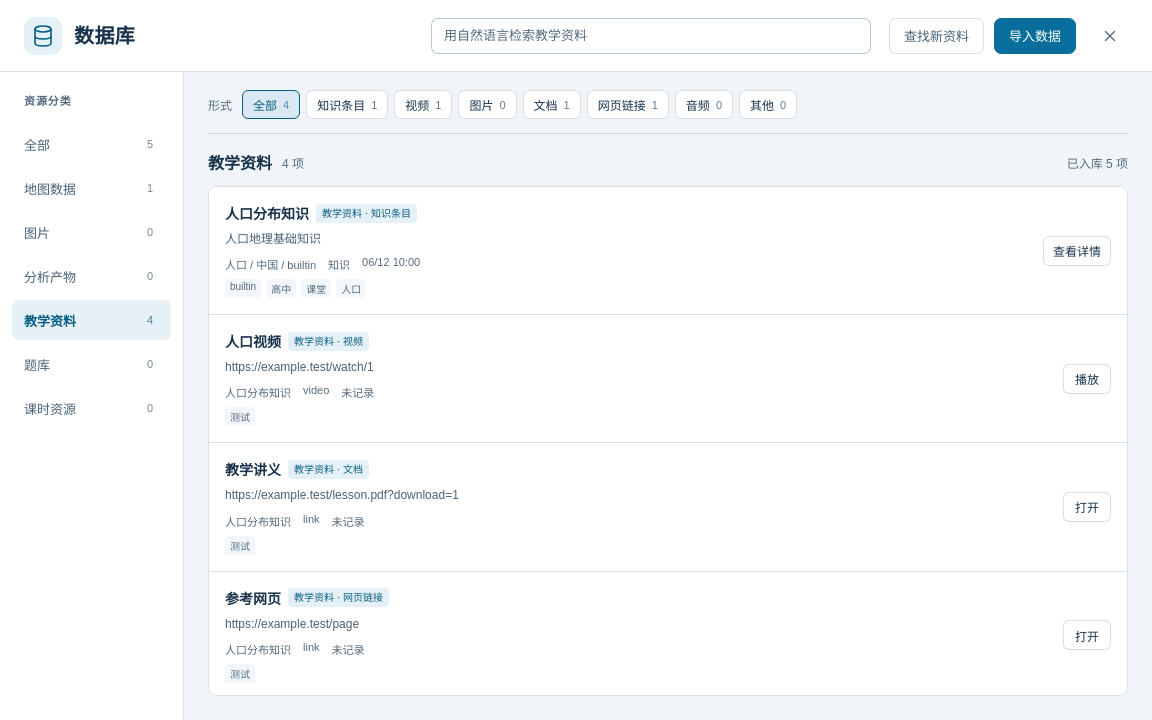
Test: DatabaseViewer › distinguishes video, documents and links within teaching materials
This screenshot has width=1152, height=720.
Click the button "视频 1": (423, 104) [394,90,452,119]
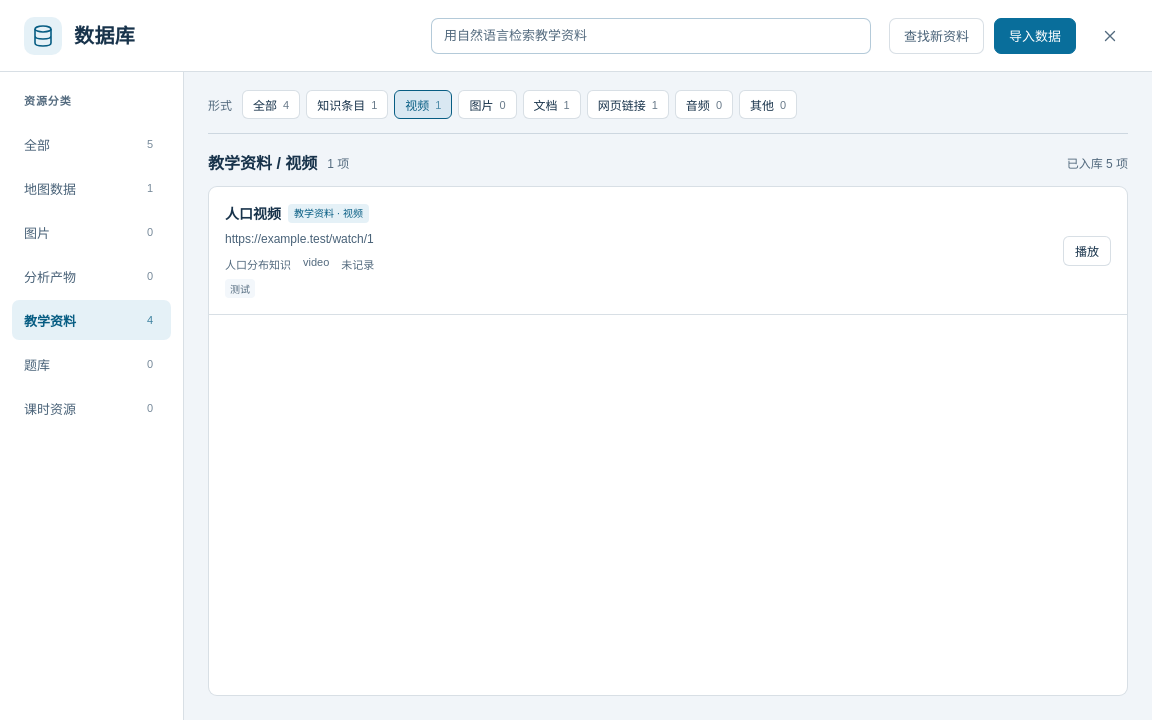
Expected: the text "人口视频" is shown, [225,203,281,223]
Now the text "参考网页" is gone
Click the button "文档 1": (552, 104) [523,90,581,119]
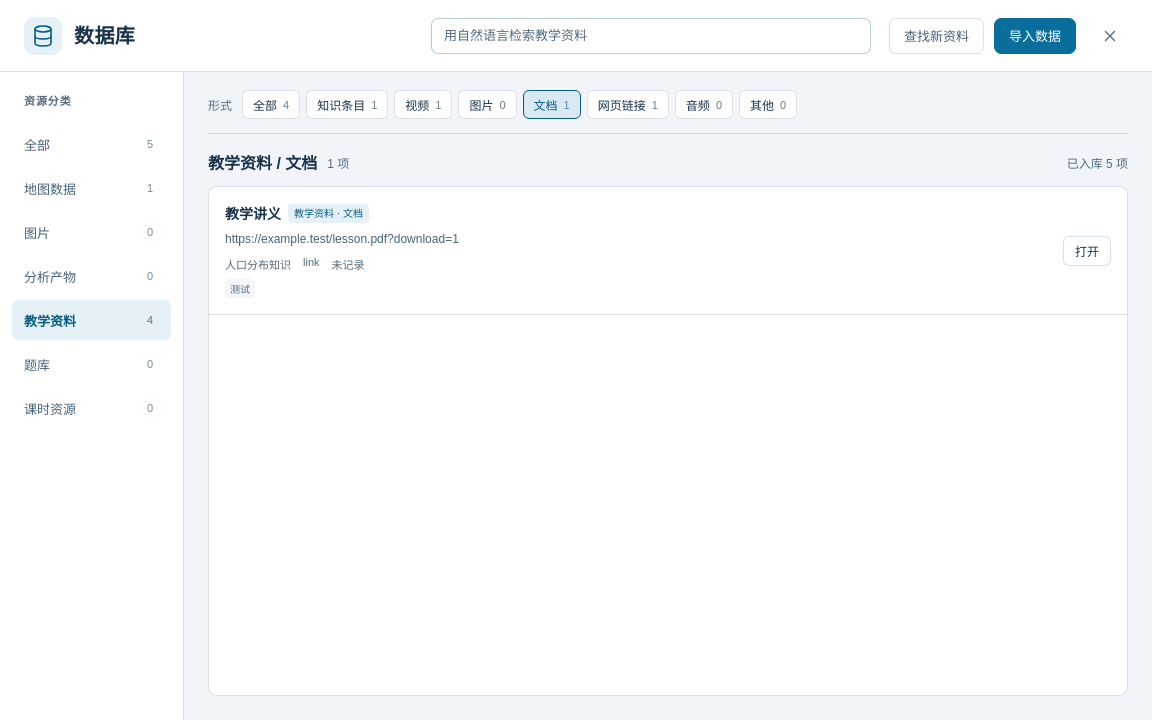
Now the text "教学讲义" is shown, box [225,203,281,223]
Now the text "人口视频" is gone
Click the button "网页链接 1": (628, 104) [587,90,669,119]
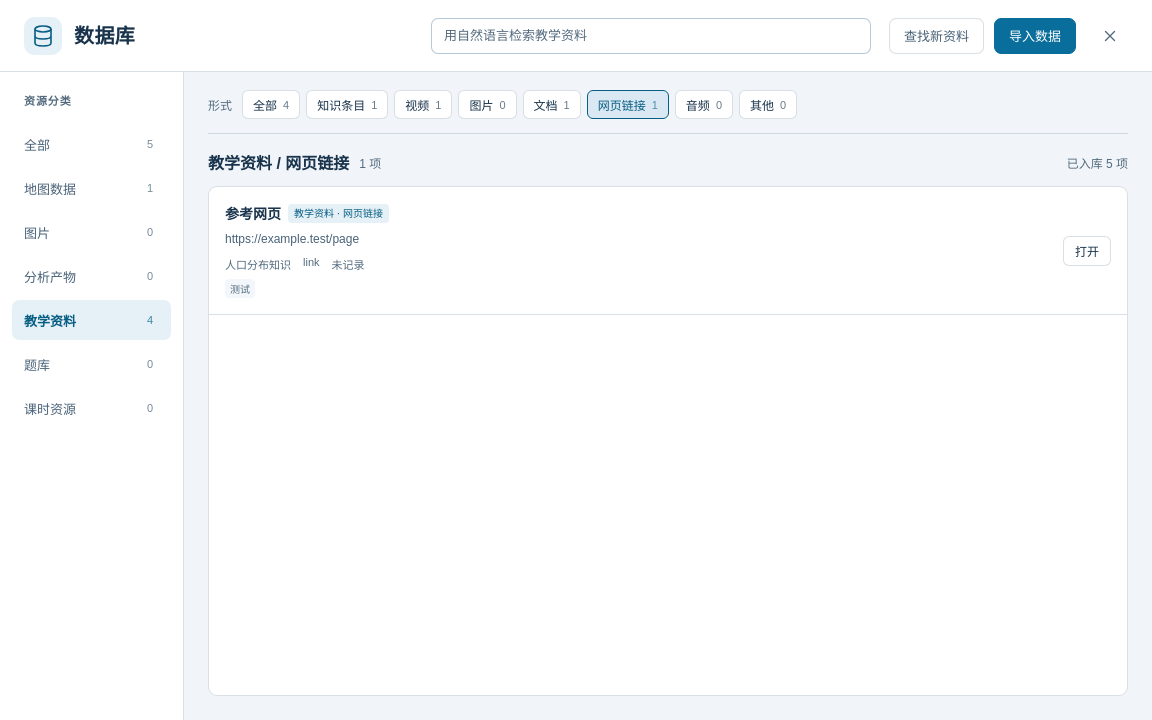
Now the text "参考网页" is shown, box [225,203,281,223]
